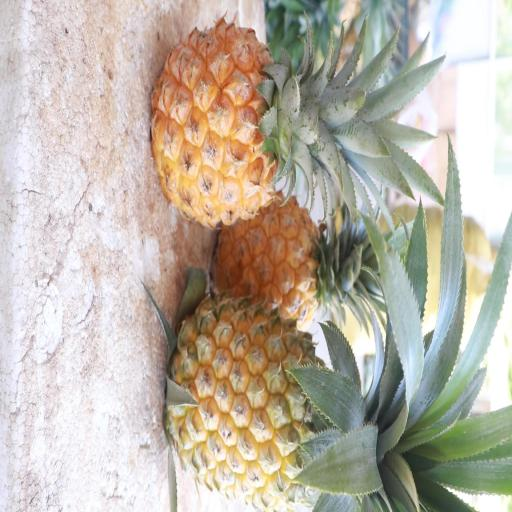Pineapple - v8 v1: (163, 286, 387, 512), (148, 12, 357, 235), (212, 188, 380, 334)
